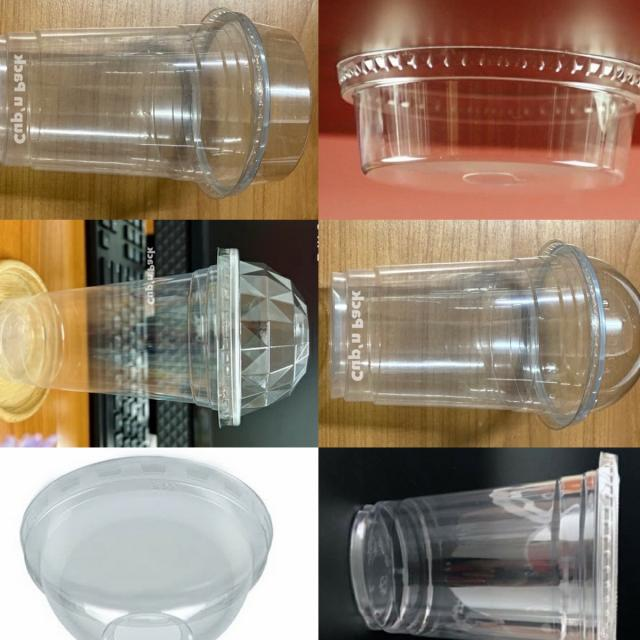plastik: (0, 9, 312, 199), (331, 242, 640, 430), (0, 249, 308, 424), (349, 452, 619, 640), (21, 456, 272, 640), (336, 47, 640, 192)
